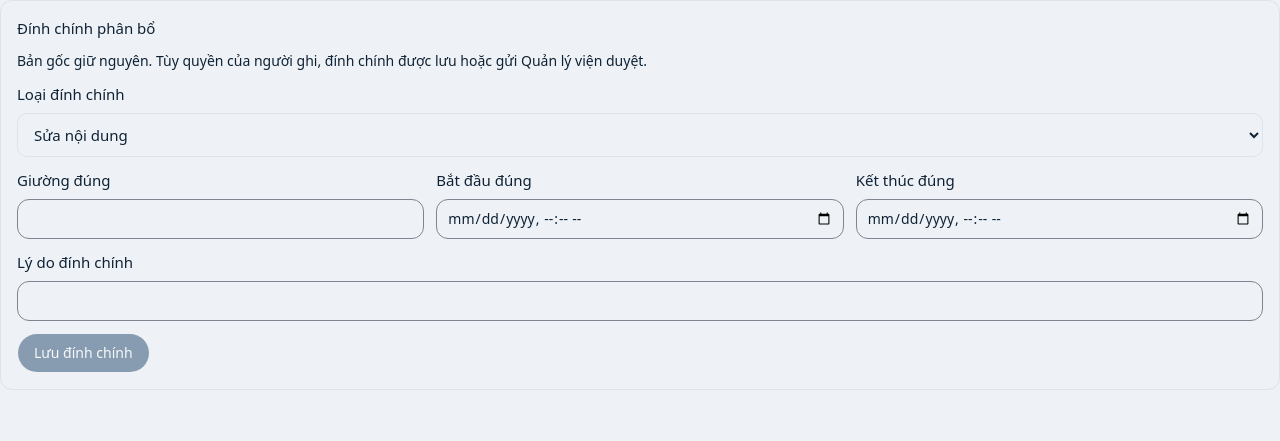
FR_026_correctionUsesWhitelistedNumericBedAndVietnamTime
Expected: the heading "Đính chính phân bổ" is shown, [17,18,155,38]
Type "9" into the number field labelled "Giường đúng".
click(221, 219); type("9")  # box [17,199,424,239]
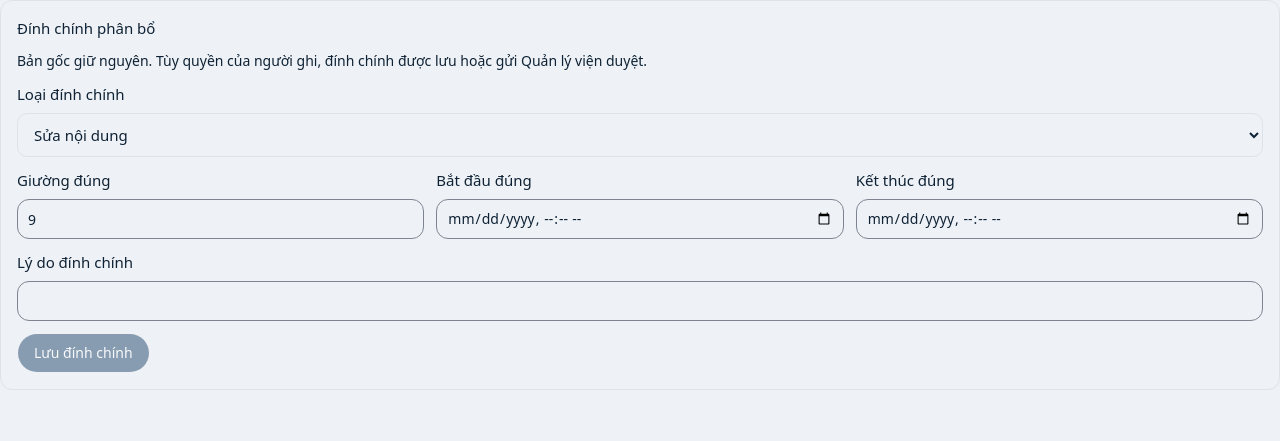
Type "2026-01-02T07:00" into the field labelled "Kết thúc đúng".
click(1059, 219); type("2026-01-02T07:00")  # box [856,199,1263,239]
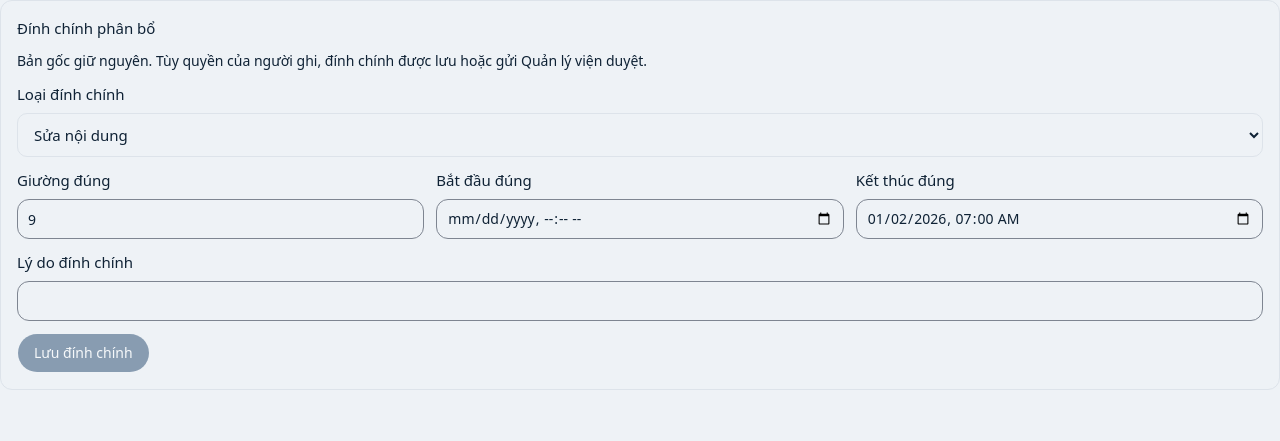
Type "Ghi đúng" into the field labelled "Lý do đính chính".
click(640, 301); type("Ghi đúng")  # box [17,281,1263,321]
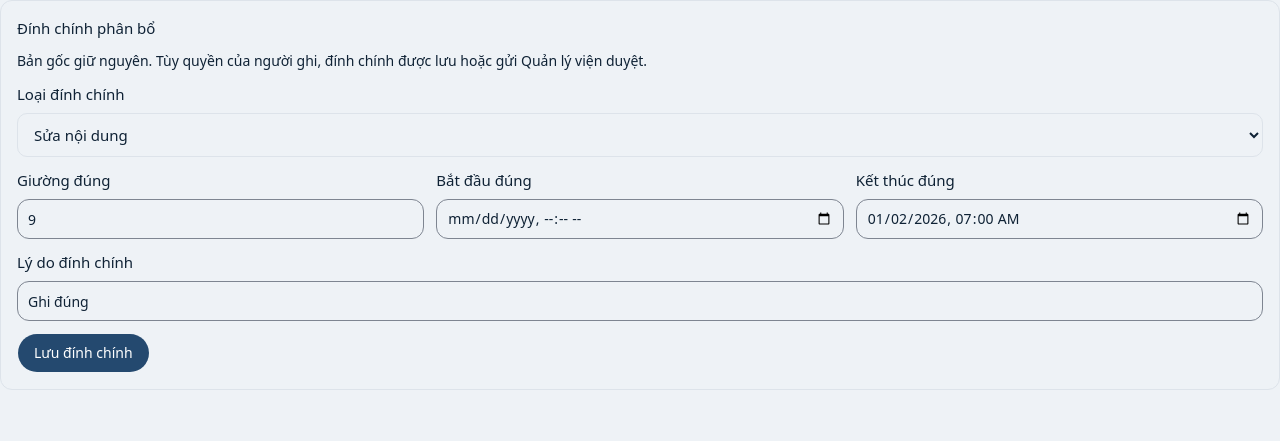
Click the button "Lưu đính chính".
click(83, 353)  # box [17,333,150,373]
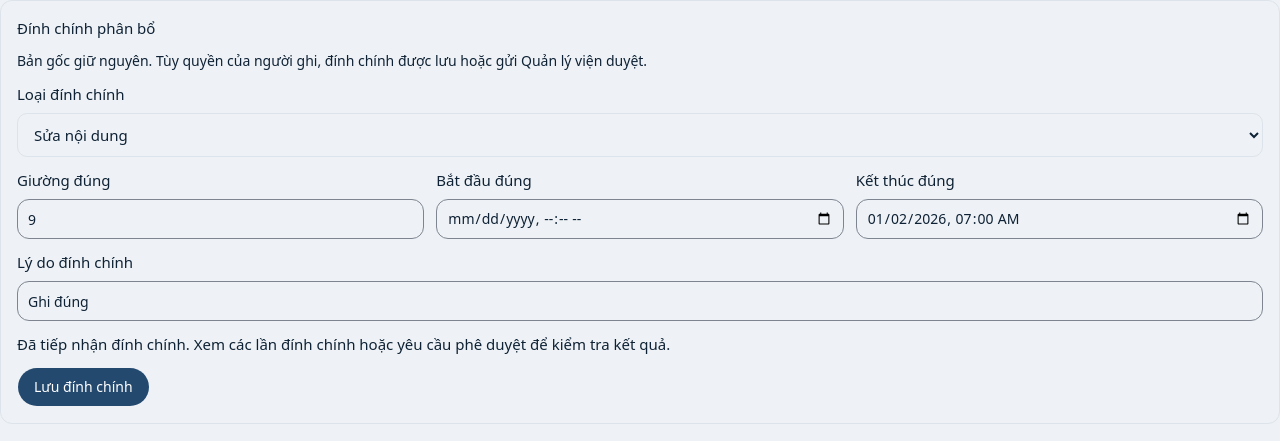
Expected: the message shows "Đã tiếp nhận đính chính", [17,334,670,354]
